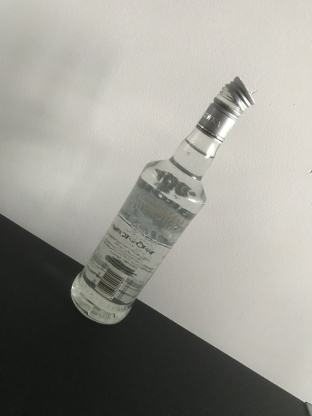nakretka: (194, 74, 256, 147)
